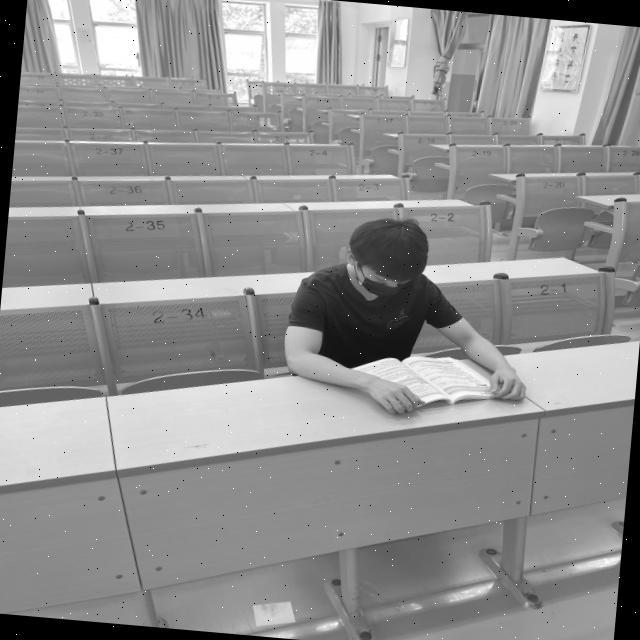study: (277, 210, 542, 427)
